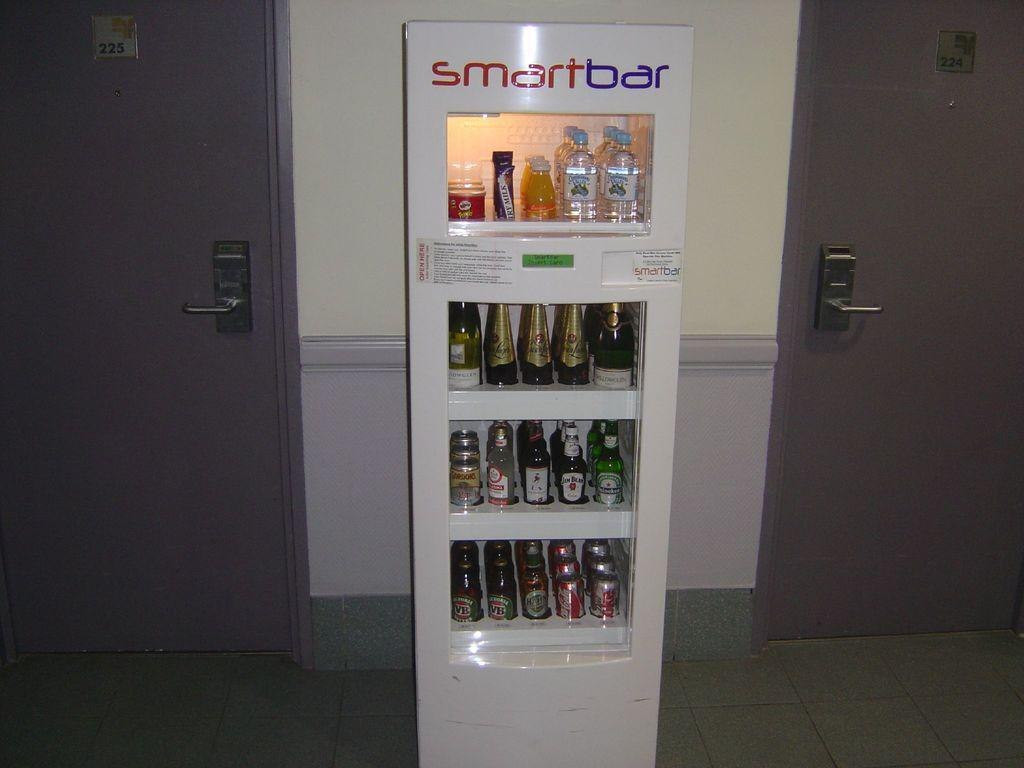door: (0, 19, 292, 644), (813, 24, 1024, 622)
handle: (830, 294, 884, 321), (182, 298, 238, 321)
